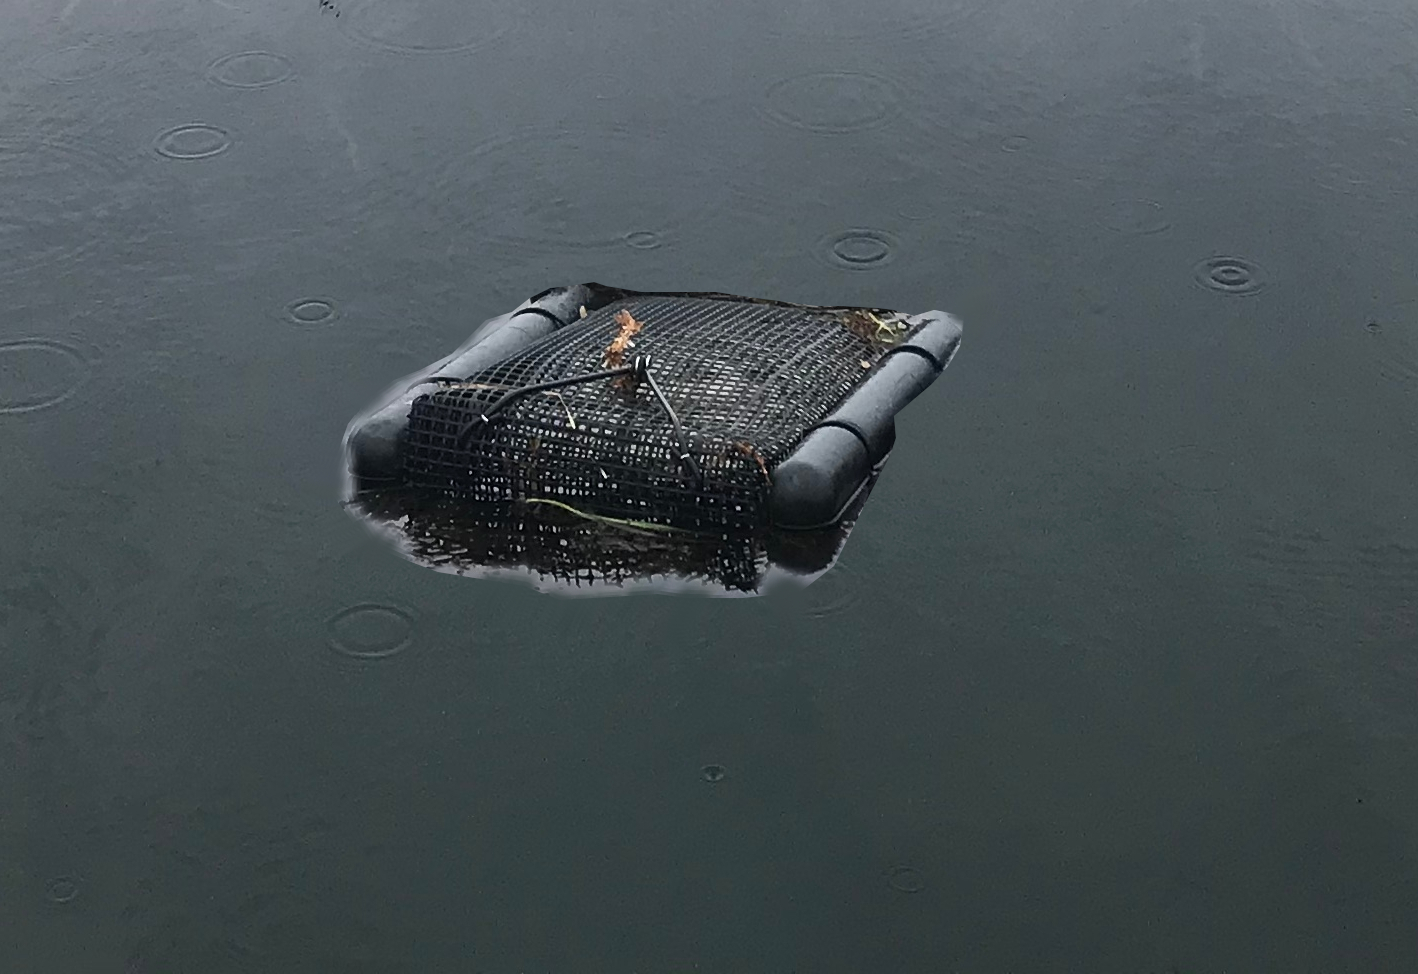bag: (342, 280, 964, 590)
